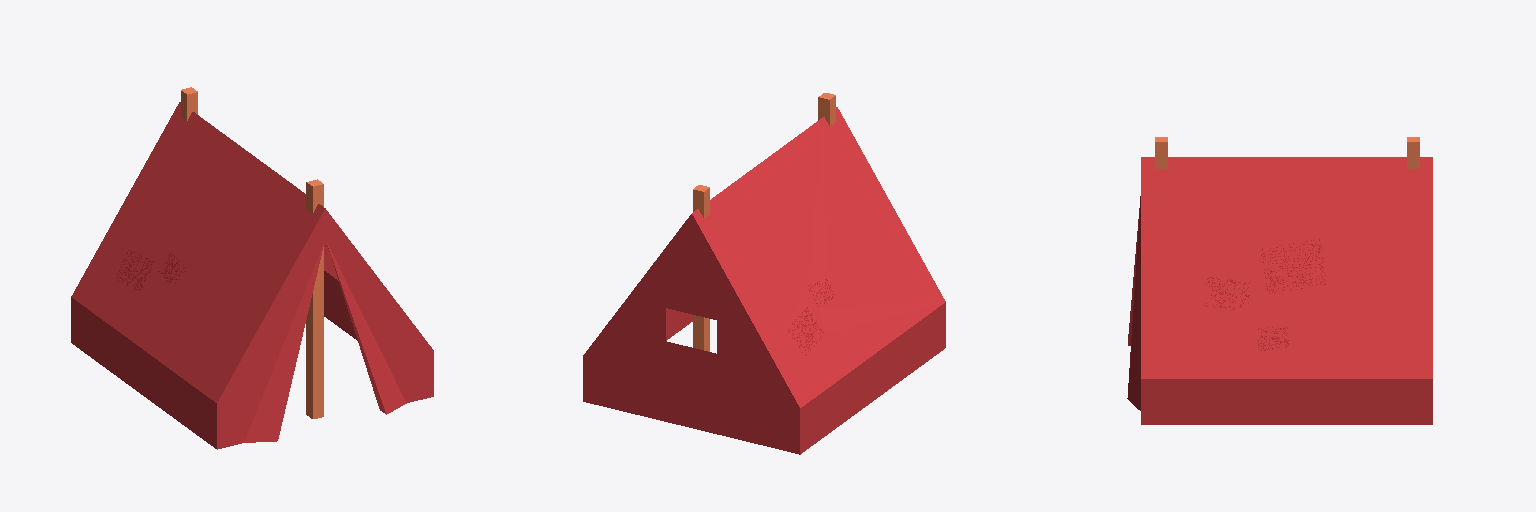
Rendered from tent_smallOpen.obj.
The picture shows the model from 3 angles: view 1: azimuth 30°, elevation 25°; view 2: azimuth 150°, elevation 25°; view 3: azimuth 270°, elevation 25°; orthographic projection.
Parts seen in each view (by area): view 1: tent_smallOpen:tent_smallOpen; view 2: tent_smallOpen:tent_smallOpen; view 3: tent_smallOpen:tent_smallOpen.
Part boxes in pixels (bbox=[...]): tent_smallOpen:tent_smallOpen: bbox=[71, 87, 433, 449]; tent_smallOpen:tent_smallOpen: bbox=[583, 93, 945, 454]; tent_smallOpen:tent_smallOpen: bbox=[1127, 137, 1432, 424].
Bounding box in the file's own units: 0.5476 × 0.5611 × 0.6664.